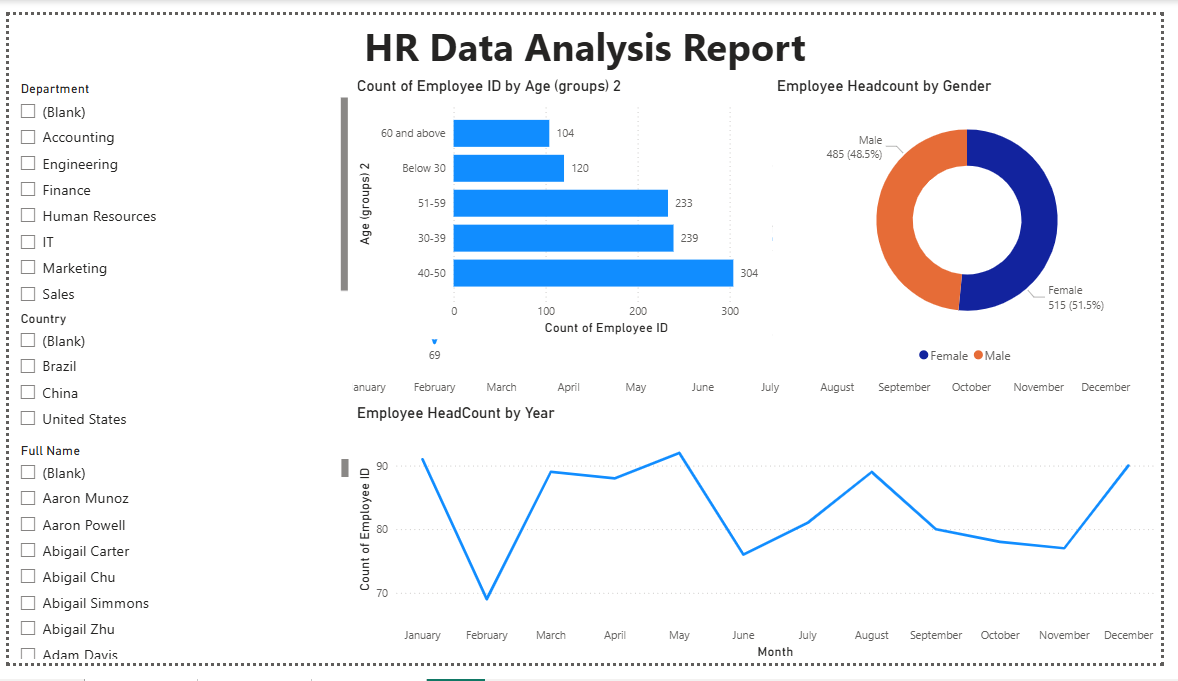

The page's visual inventory and layout, read from the dashboard file:
{"tool":"powerbi","page":{"name":"Page 1","canvas":[1280,720],"ordinal":0},"visuals":[{"type":"lineChart","title":"Employee Headcount by YoY","fields":{"Category":["Employee Data.Hire Date.Variation.Date Hierarchy.Year","Employee Data.Hire Date.Variation.Date Hierarchy.Month"],"Y":["CountNonNull(Employee Data.Employee ID)"]},"box":[340,86.7,915,345],"z":0},{"type":"donutChart","title":"Employee Headcount  by Gender","fields":{"Category":["Employee Data.Gender"],"Y":["CountNonNull(Employee Data.Employee ID)"]},"box":[848.3,68.3,431.7,328.3],"z":1000},{"type":"clusteredBarChart","fields":{"Y":["CountNonNull(Employee Data.Employee ID)"],"Category":["Employee Data.Age (groups) 2"]},"box":[381.7,68.3,466.7,291.7],"z":2000},{"type":"slicer","fields":{"Values":["Employee Data.Department"]},"box":[0,68.3,381.7,255],"z":3000},{"type":"slicer","fields":{"Values":["Employee Data.Country"]},"box":[0,323.8,382.1,145.7],"z":4000},{"type":"slicer","fields":{"Values":["Employee Data.Full Name"]},"box":[0,470,382,250],"z":5000},{"type":"textbox","box":[0,0,1280,68.3],"z":6000},{"type":"lineChart","title":" Employee HeadCount by Year","fields":{"Category":["Employee Data.Hire Date.Variation.Date Hierarchy.Year","Employee Data.Hire Date.Variation.Date Hierarchy.Month"],"Y":["CountNonNull(Employee Data.Employee ID)"]},"box":[381.7,431.7,898.3,288.3],"z":6001}]}

Visuals, with their boxes in screenshot pixels (x1, y1, x2, y2), scaled from the page's 1280x720 canvas onto the 1178x681 screenshot:
"Employee Headcount by YoY" lineChart: <box>313,82,1155,408</box>
"Employee Headcount  by Gender" donutChart: <box>781,65,1177,375</box>
clusteredBarChart - CountNonNull(Employee Data.Employee ID) x Employee Data.Age (groups) 2: <box>351,65,781,340</box>
slicer - Employee Data.Department: <box>0,65,351,306</box>
slicer - Employee Data.Country: <box>0,306,352,444</box>
slicer - Employee Data.Full Name: <box>0,445,352,680</box>
textbox: <box>0,0,1177,65</box>
" Employee HeadCount by Year" lineChart: <box>351,408,1177,680</box>
